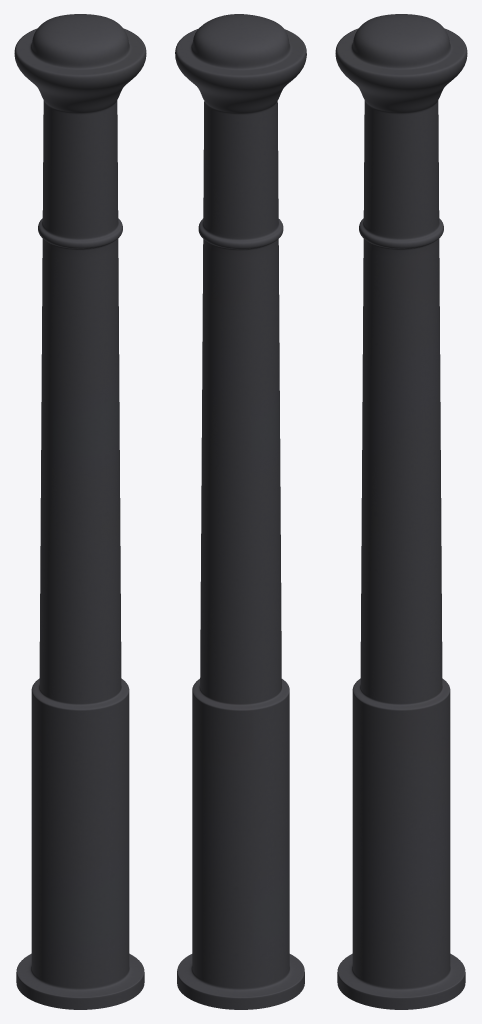
Rendered from street_bollard_23.obj.
3 renders of one model, left to right at view 1: azimuth 90°, elevation 25°; view 2: azimuth 150°, elevation 25°; view 3: azimuth 270°, elevation 25°, orthographic.
Parts seen in each view (by area): view 1: street_bollard_23; view 2: street_bollard_23; view 3: street_bollard_23.
Part boxes in pixels (x1,y1,x2,y2): street_bollard_23: [14, 14, 146, 1009]; street_bollard_23: [175, 14, 306, 1009]; street_bollard_23: [335, 14, 467, 1009].
Size of the model in its own units: 11.99 by 95.95 by 11.99.
Materials: 1 (1 with a texture image).
